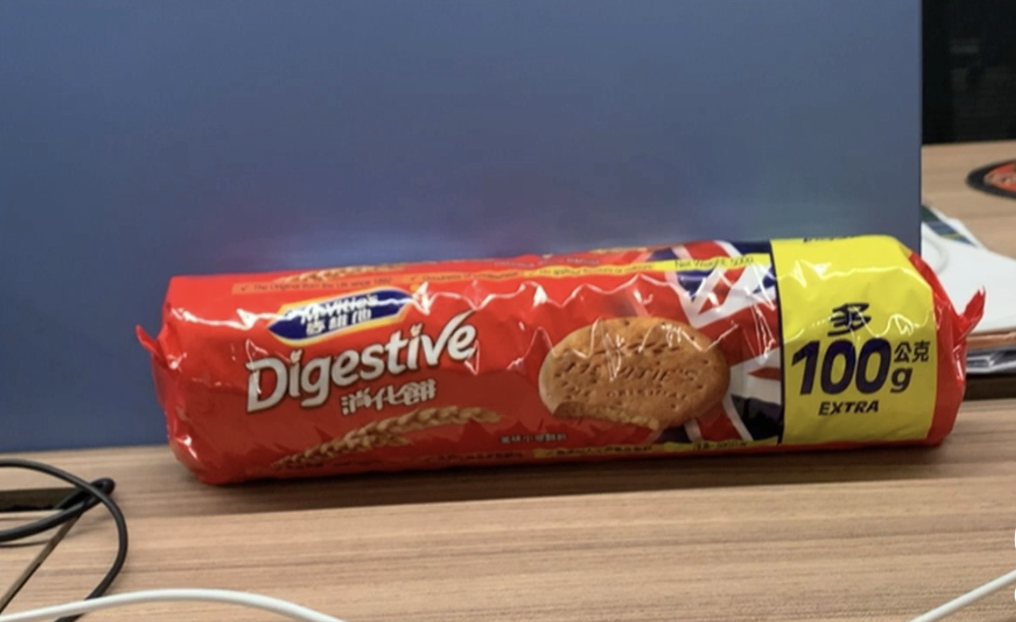cookies_550g: (232, 286, 926, 435)
